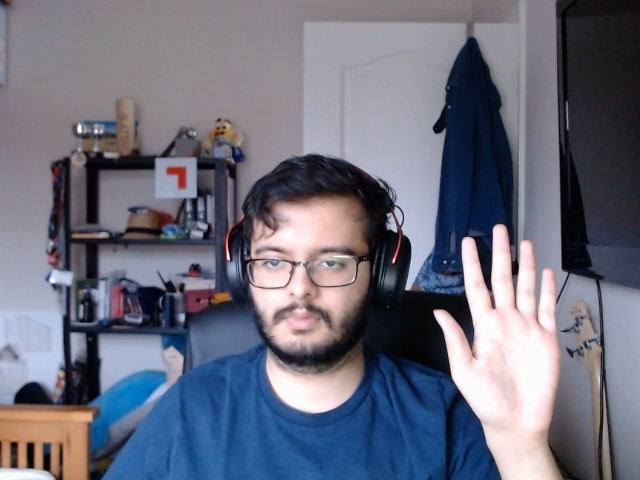Hello: (427, 219, 564, 444)
